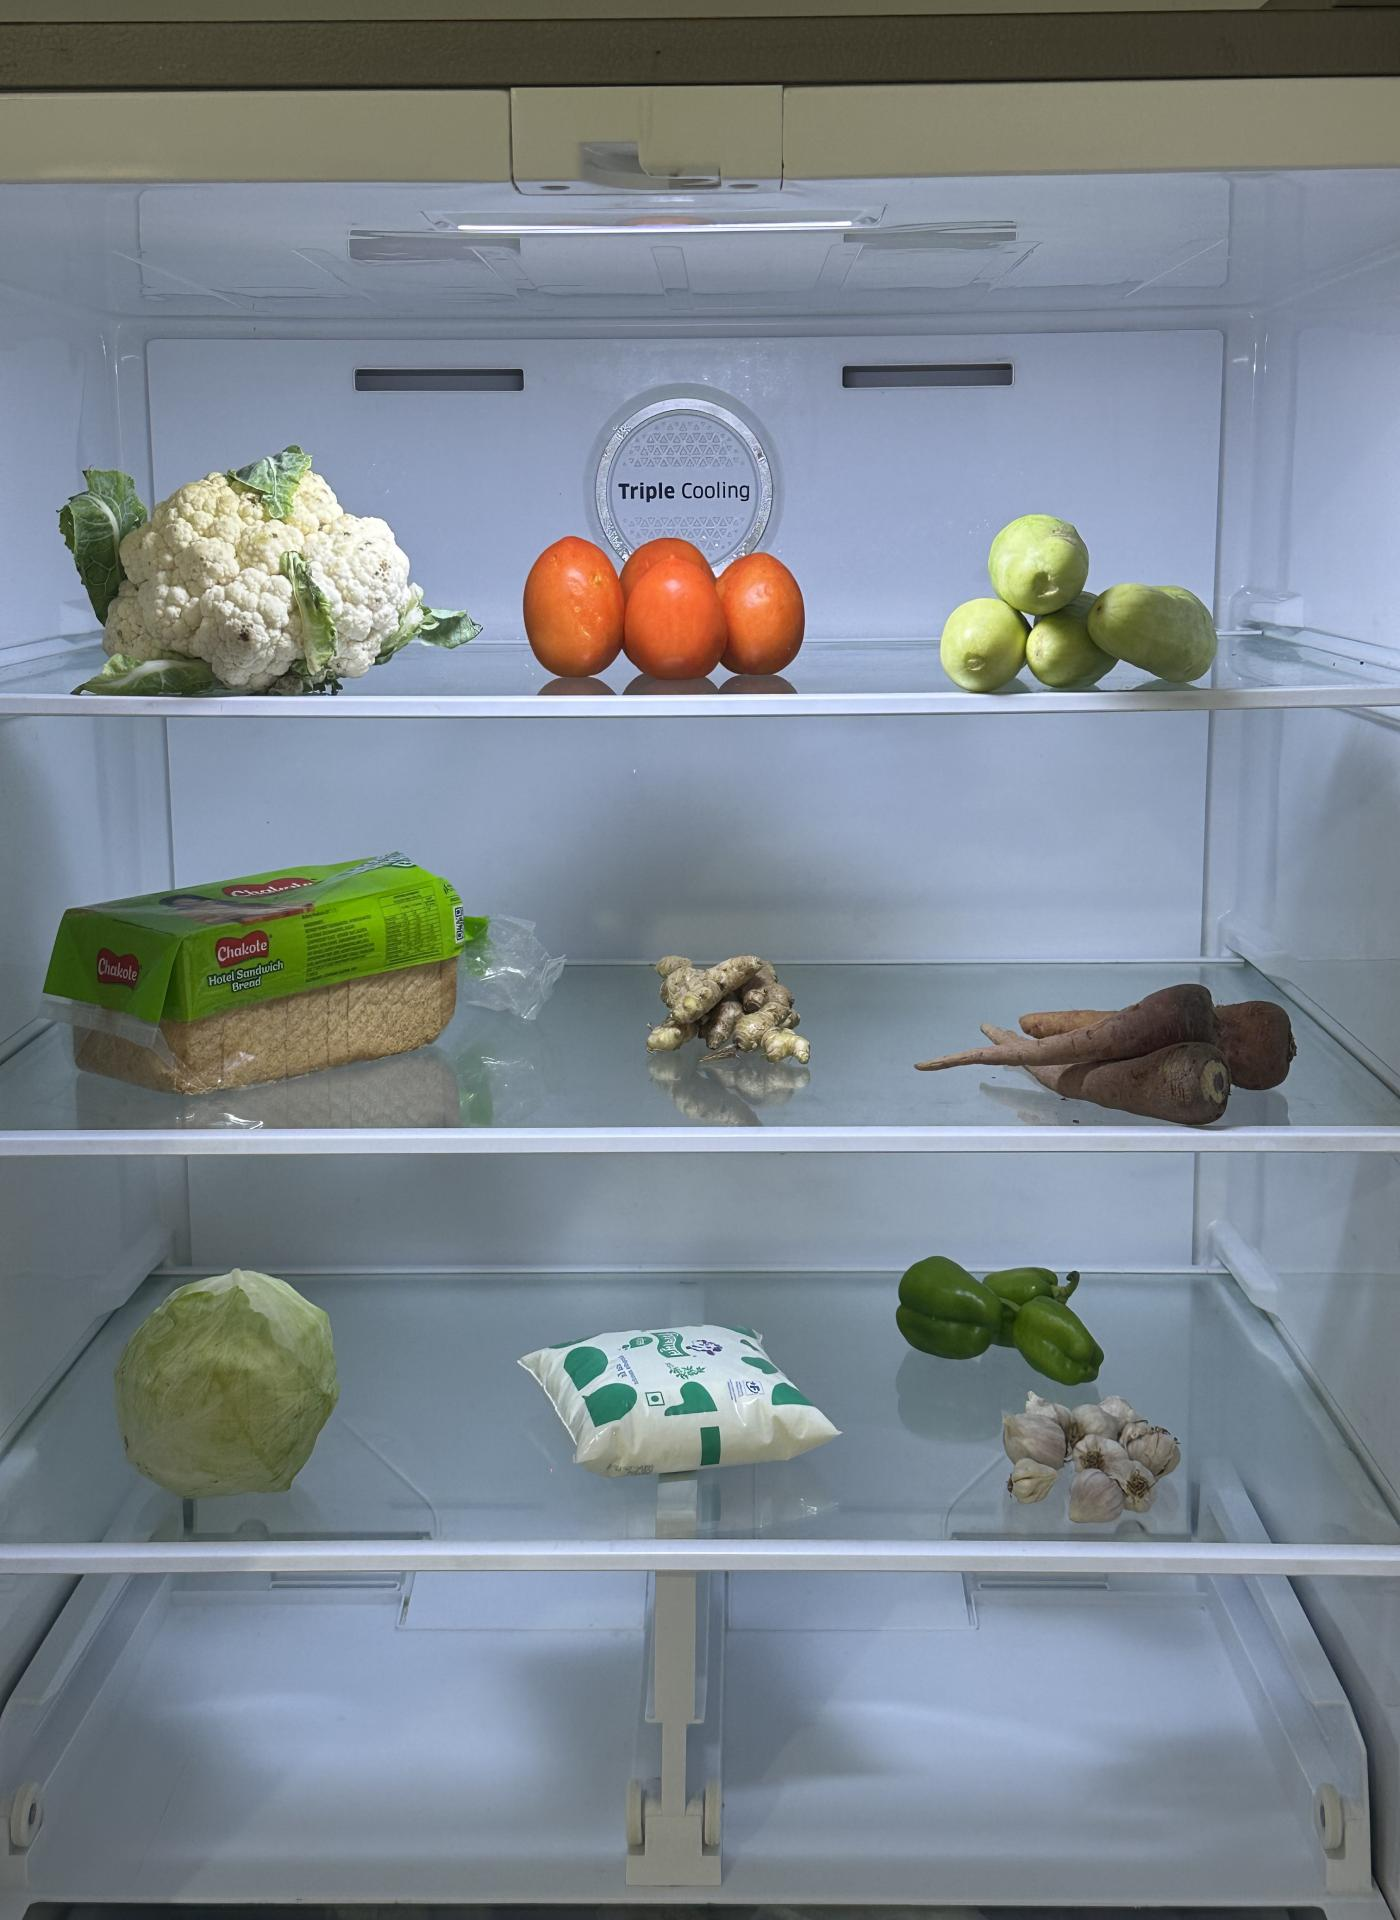bread: (57, 854, 513, 1100)
cabbage: (121, 1267, 343, 1500)
capsicum: (895, 1243, 1121, 1382)
carrots: (983, 982, 1321, 1118)
cauliflower: (52, 449, 462, 677)
cucumber: (936, 505, 1229, 699)
garlic: (974, 1391, 1202, 1526)
ginger: (640, 939, 822, 1073)
milk: (519, 1315, 850, 1480)
tomato: (519, 529, 824, 699)
